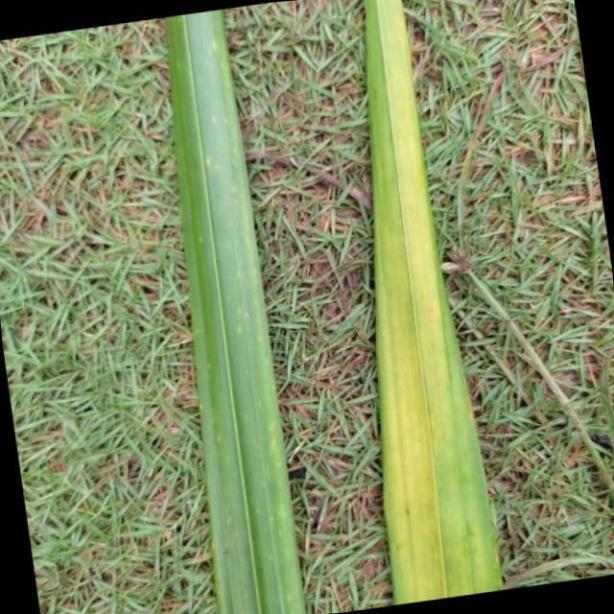nitrogen: (360, 0, 502, 614), (161, 3, 303, 614)
